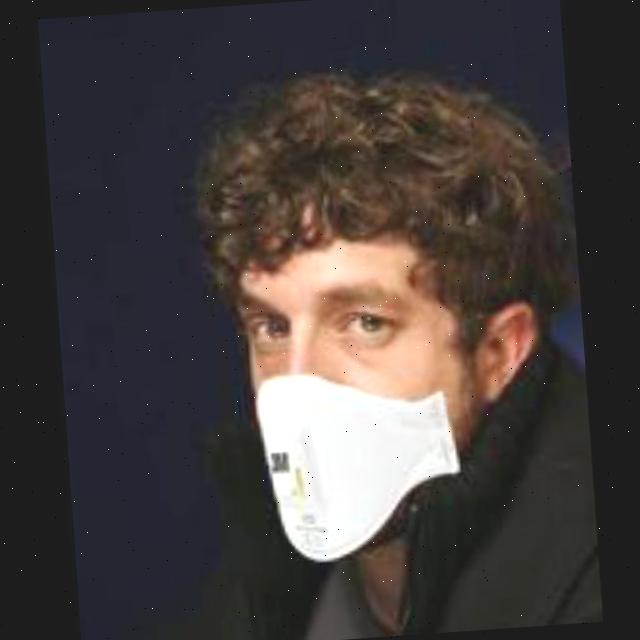suspicion: (212, 77, 579, 542)
